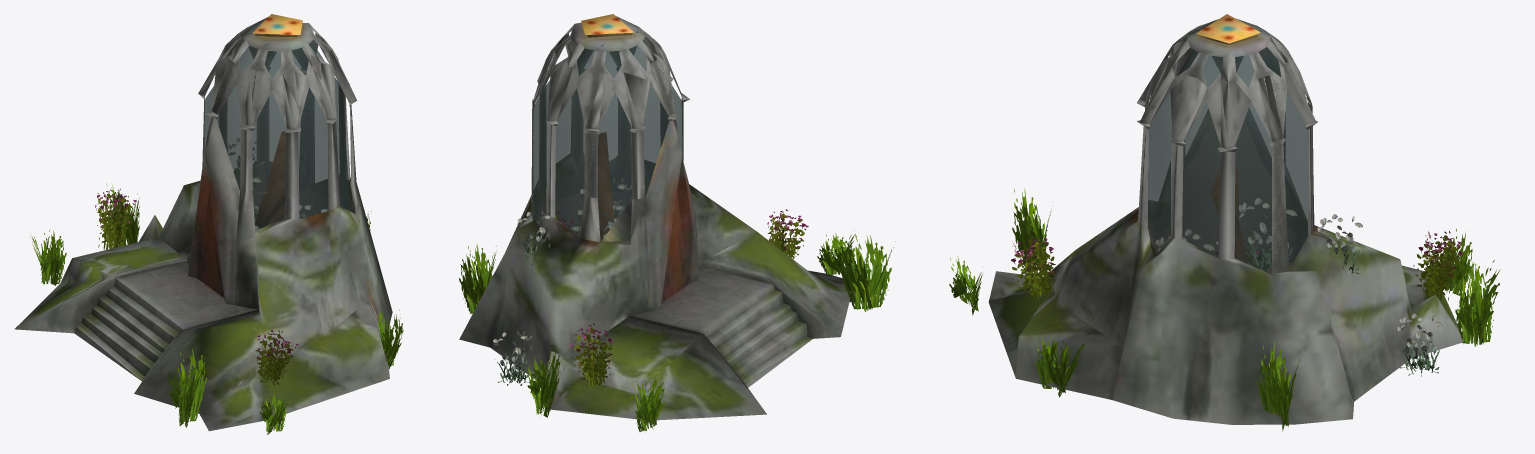
The model's file is BLD_PeaGreenhouse_lod.glb.
3 views of the same model, side by side, from view 1: azimuth 30°, elevation 25°; view 2: azimuth 150°, elevation 25°; view 3: azimuth 270°, elevation 25° (orthographic). The views are drawn at different scales.
Visible parts, largest first — view 1: 0_Orange_0, RetopoGroup1_Glass_0; view 2: 0_Orange_0, RetopoGroup1_Glass_0; view 3: 0_Orange_0, RetopoGroup1_Glass_0.
Boxes of the visible parts, x1,y1,x2,y2 form: 0_Orange_0: [14, 14, 403, 434]; RetopoGroup1_Glass_0: [204, 24, 350, 230]; 0_Orange_0: [459, 14, 895, 432]; RetopoGroup1_Glass_0: [533, 30, 682, 241]; 0_Orange_0: [949, 14, 1500, 431]; RetopoGroup1_Glass_0: [1148, 24, 1309, 274].
Size of the model in its own units: 525 by 443 by 673.
2 materials, 1 textured.
